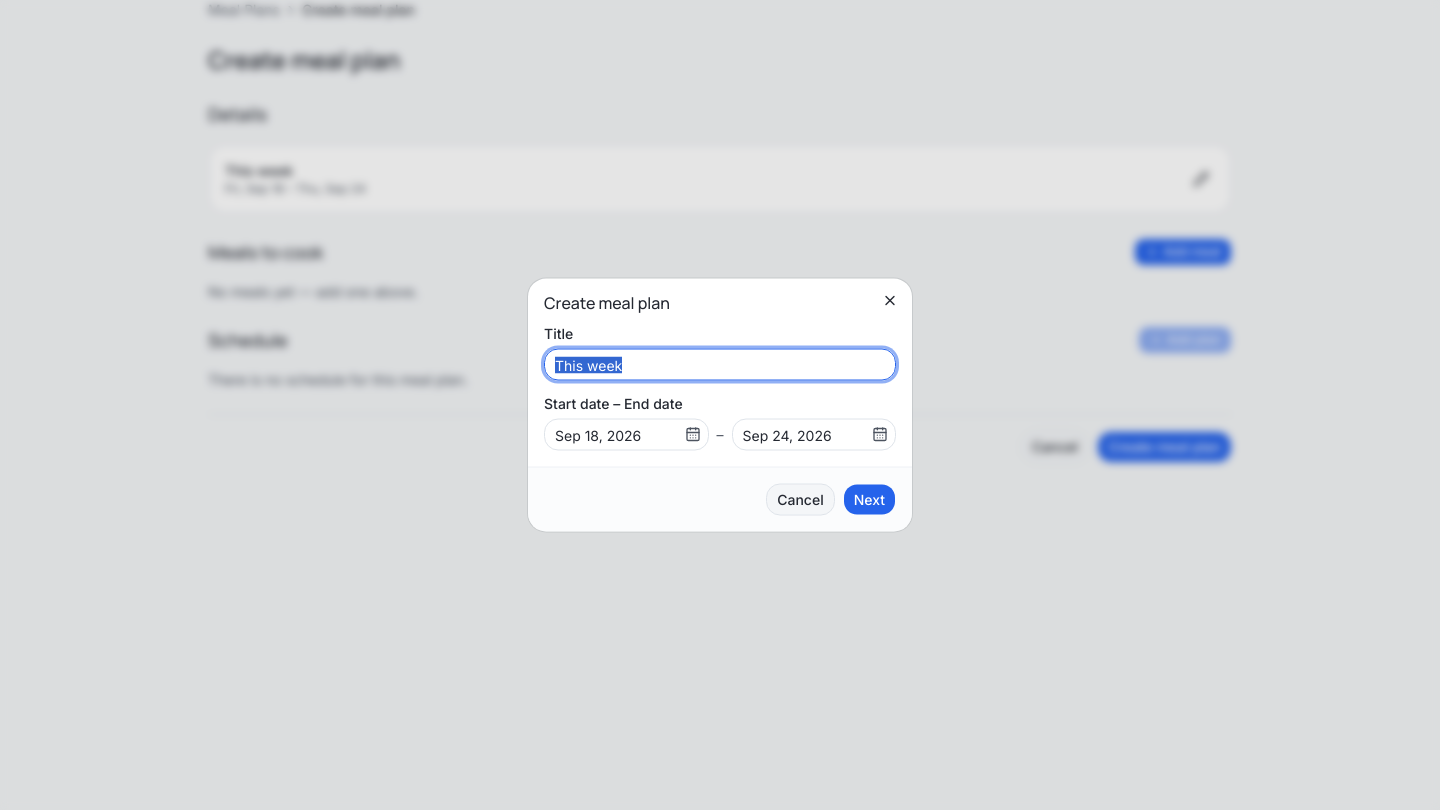
Test: MealPlanEditor Add-meal picker › Clear removes every active filter, revealing every candidate
The width and height of the screenshot is (1440, 810).
Click the button "Next" at (869, 500), box x1=843 y1=484 x2=896 y2=516
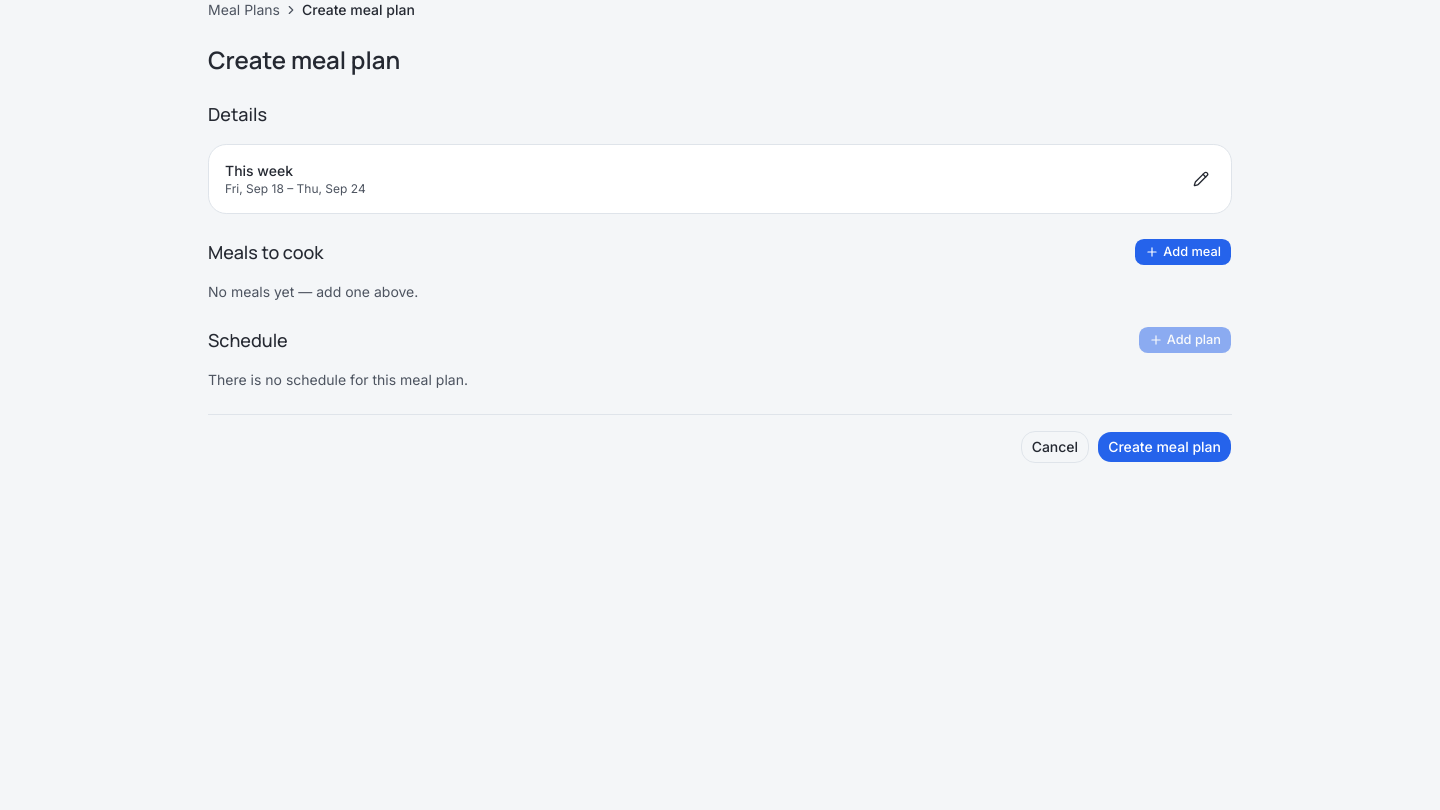
Click the button "Add meal" at (1183, 252), box x1=1134 y1=238 x2=1232 y2=266
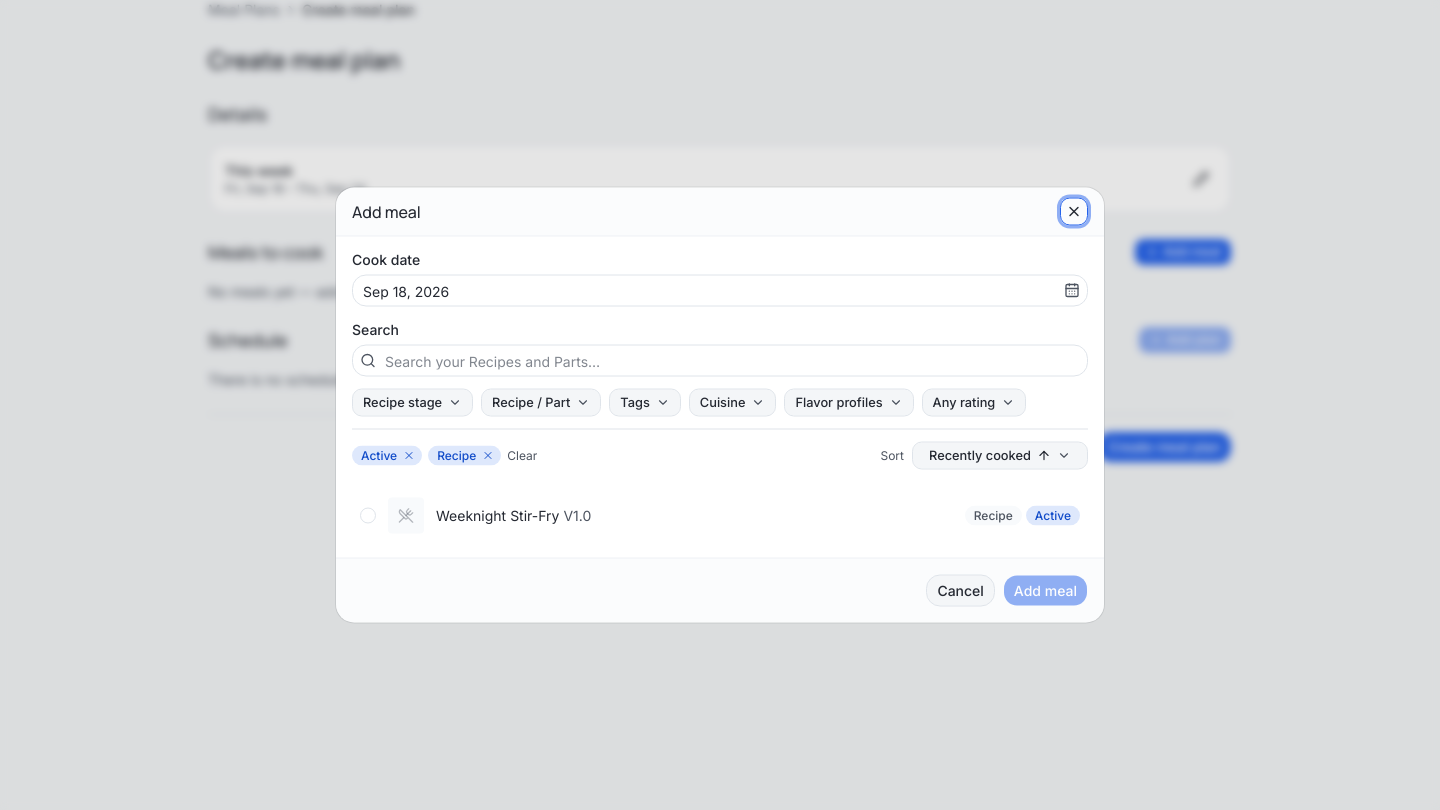
Expected: the text "Idea Part" is not shown
Click the button "Clear" at (522, 456), box x1=507 y1=448 x2=537 y2=464
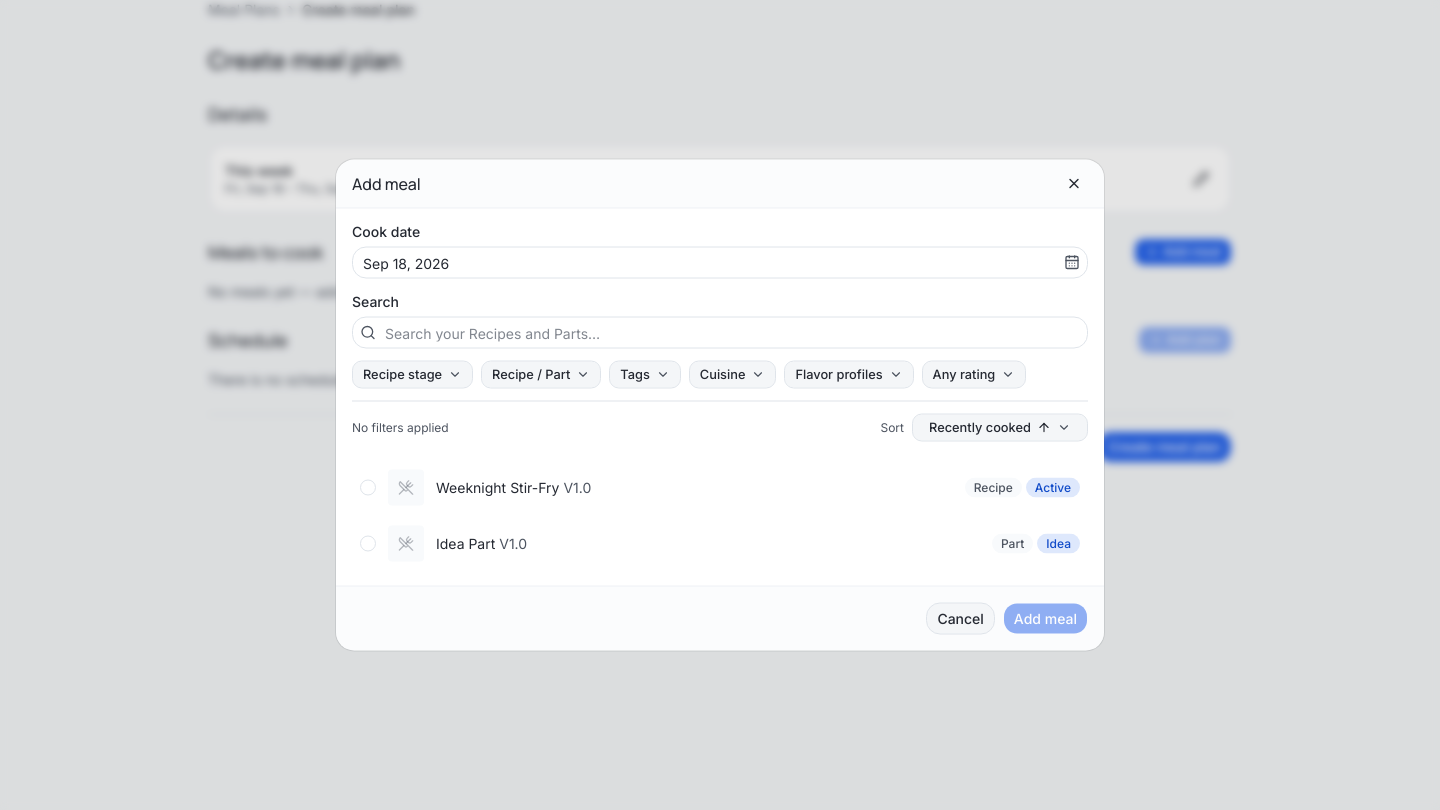
Result: the text "Idea Part" is shown at x1=436 y1=534 x2=495 y2=552
